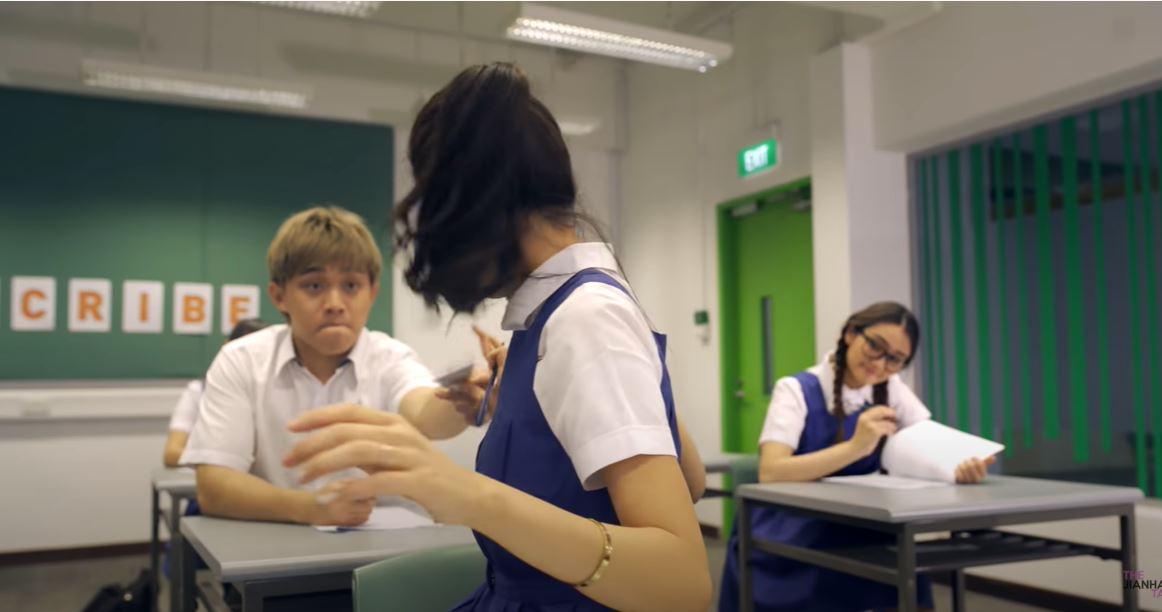student: (236, 214, 447, 504), (792, 296, 961, 491)
studentcopying: (369, 84, 732, 609)
